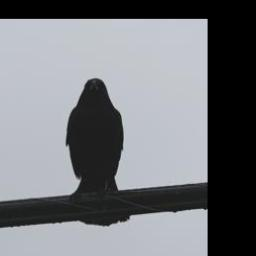Crow: (63, 77, 129, 227)
